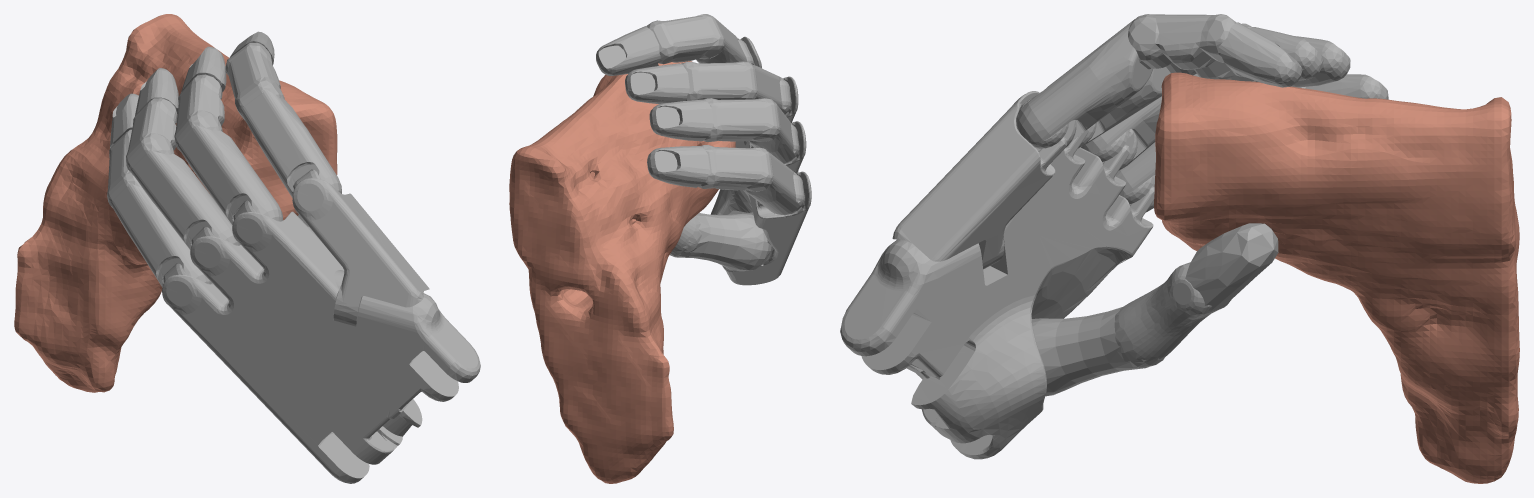
The picture shows the model from 3 angles, left to right: view 1: azimuth 30°, elevation 25°; view 2: azimuth 150°, elevation 25°; view 3: azimuth 270°, elevation 25°; orthographic projection. The views are drawn at different scales.
Visible parts, largest first — view 1: world; view 2: world; view 3: world.
Part boxes in pixels (x1,y1,x2,y2): world: (14,14,480,483); world: (509,14,811,483); world: (840,14,1519,483).
Size of the model in its own units: 0.6617 by 1.2 by 1.48.
